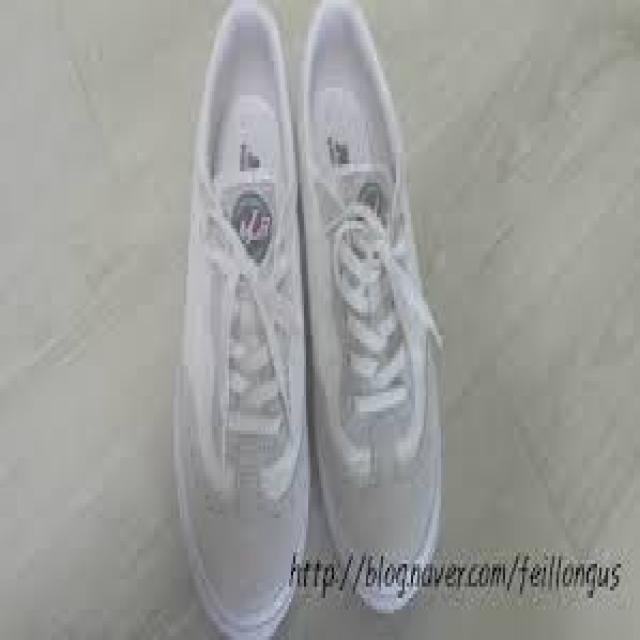shoe: (173, 0, 315, 640), (300, 0, 441, 613)
